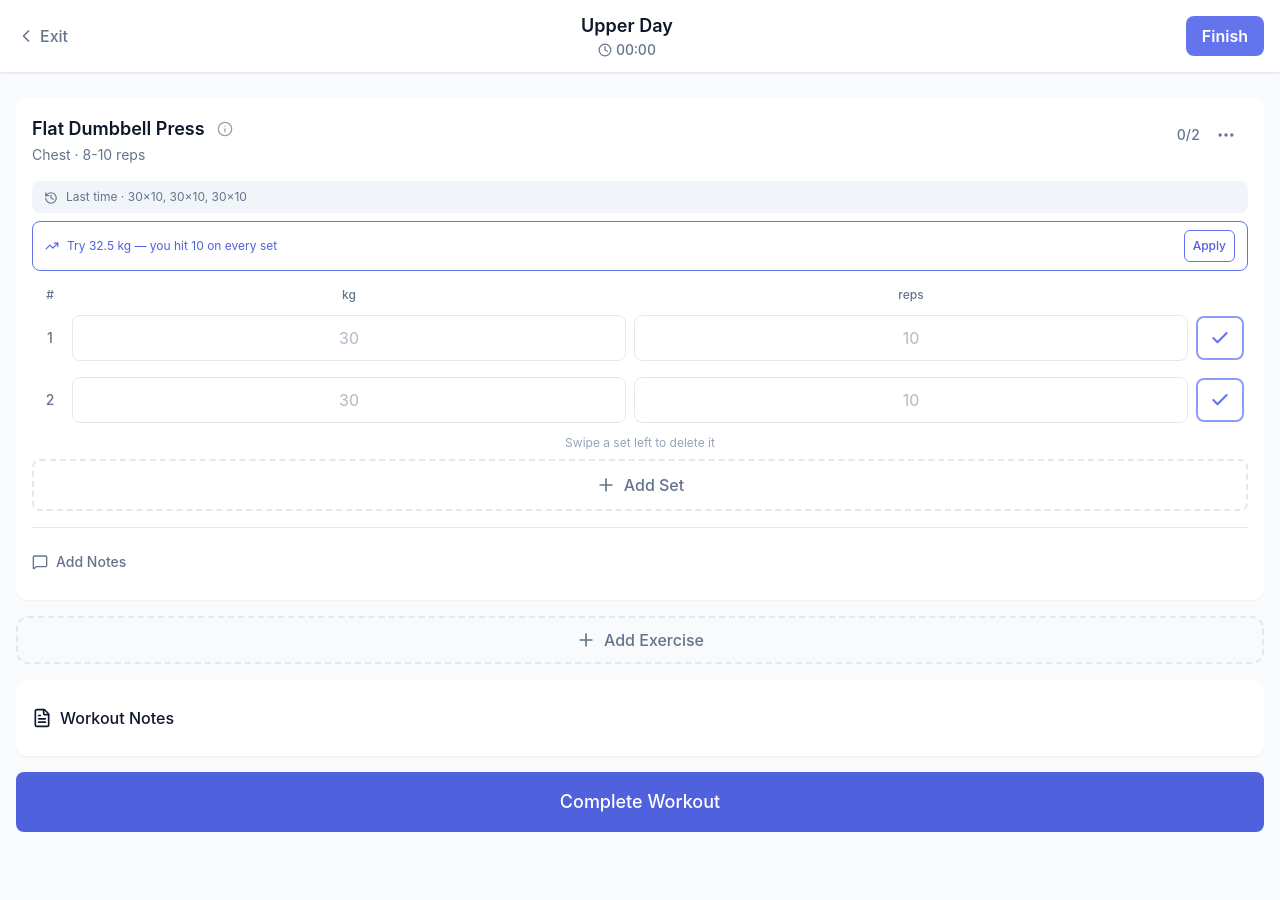
ActiveWorkoutPage suggestions › shows a done counter and one menu for exercise actions
Check: the text "Last time · 30×10, 30×10, 30×10" is shown, box [66,189,247,205]
Check: the text "0/2" is shown, box [1177,125,1200,145]
Click the button named "Mark set 1 done" at (1220, 338), box [1196,316,1244,360]
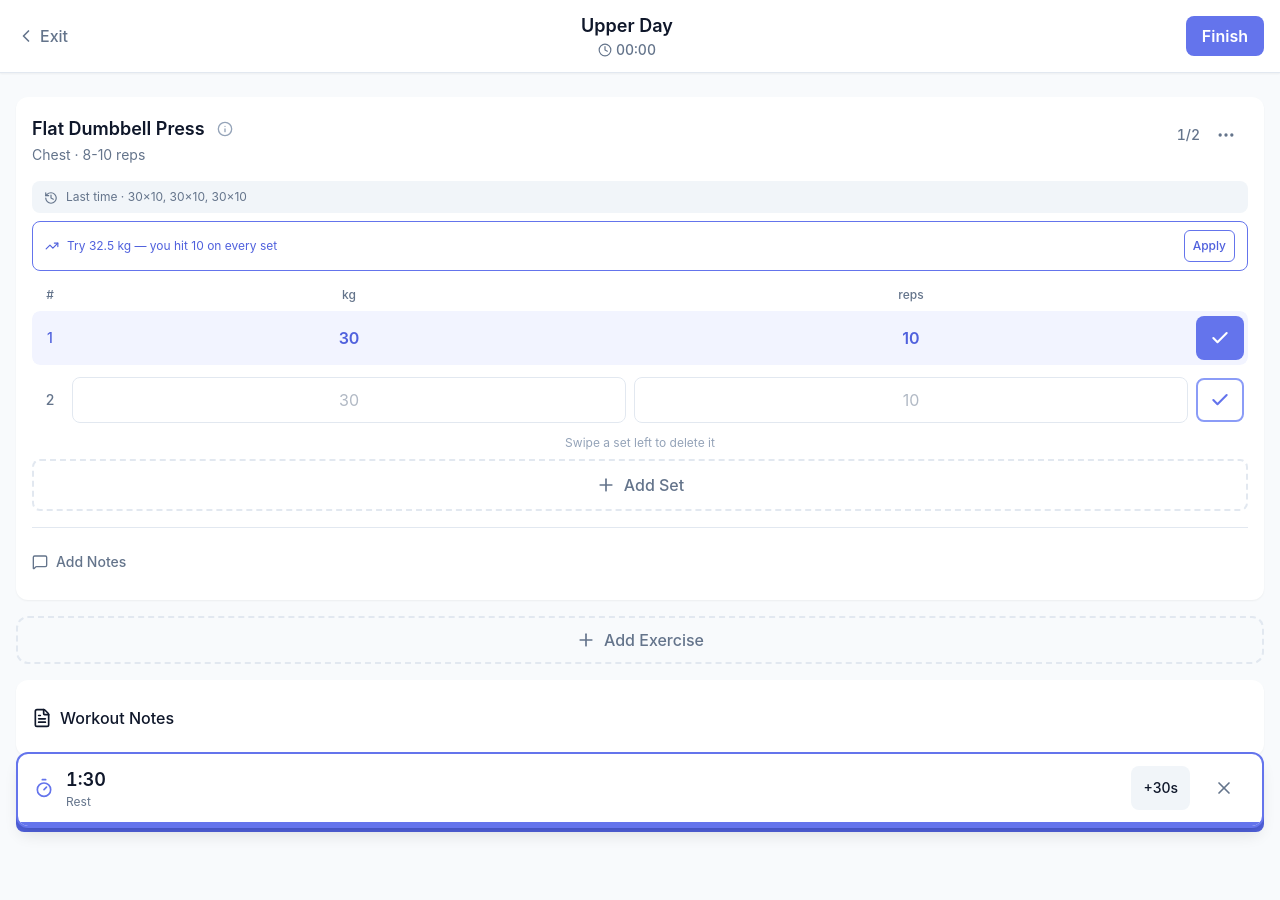
Check: the text "1/2" is shown, box [1177,125,1200,145]
Click the button named "Exercise options" at (1226, 135), box [1204,113,1248,157]
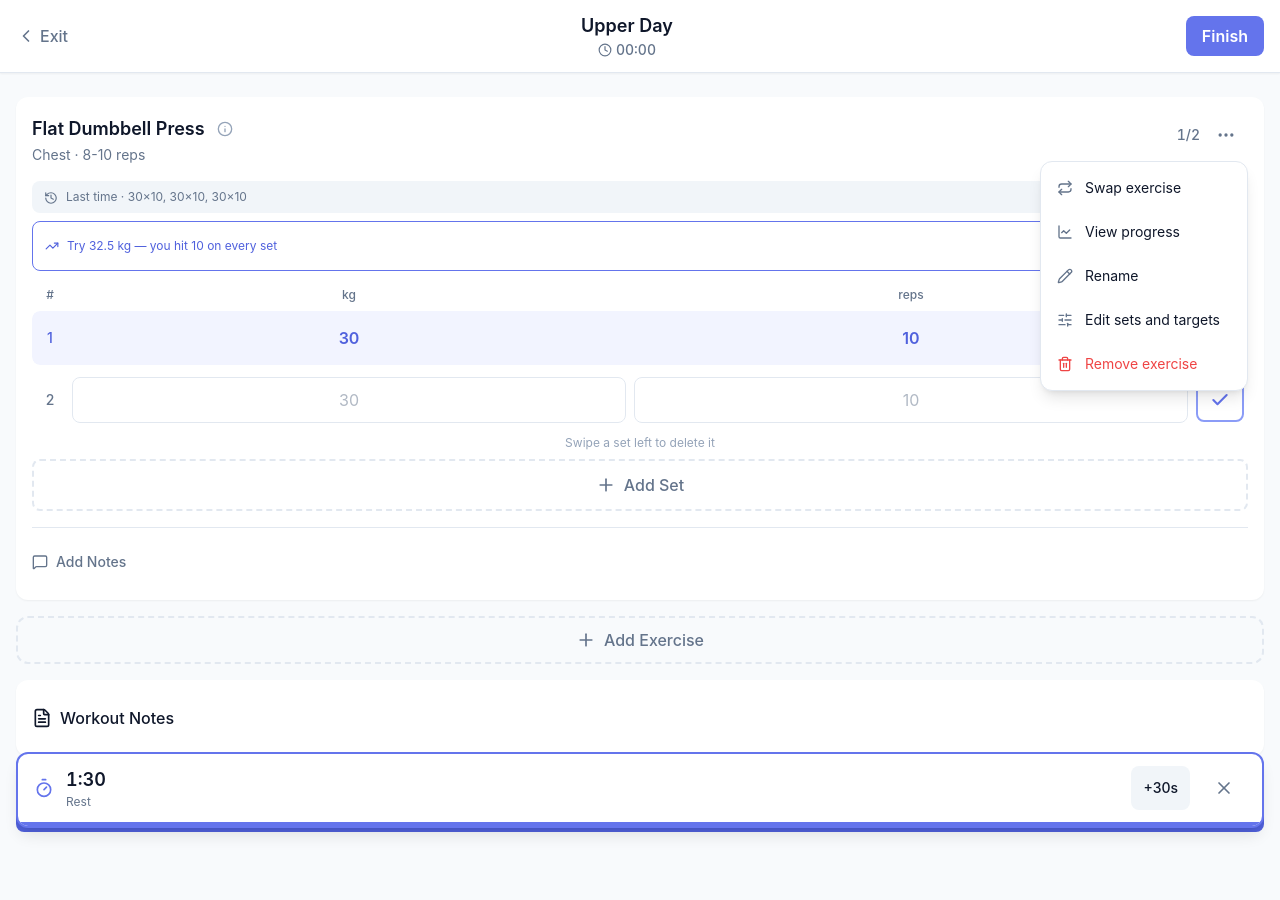
Check: the menu item "Edit sets and targets" is shown, box [1041,298,1247,342]
Click the menu item "Rename" at (1144, 276), box [1041,254,1247,298]
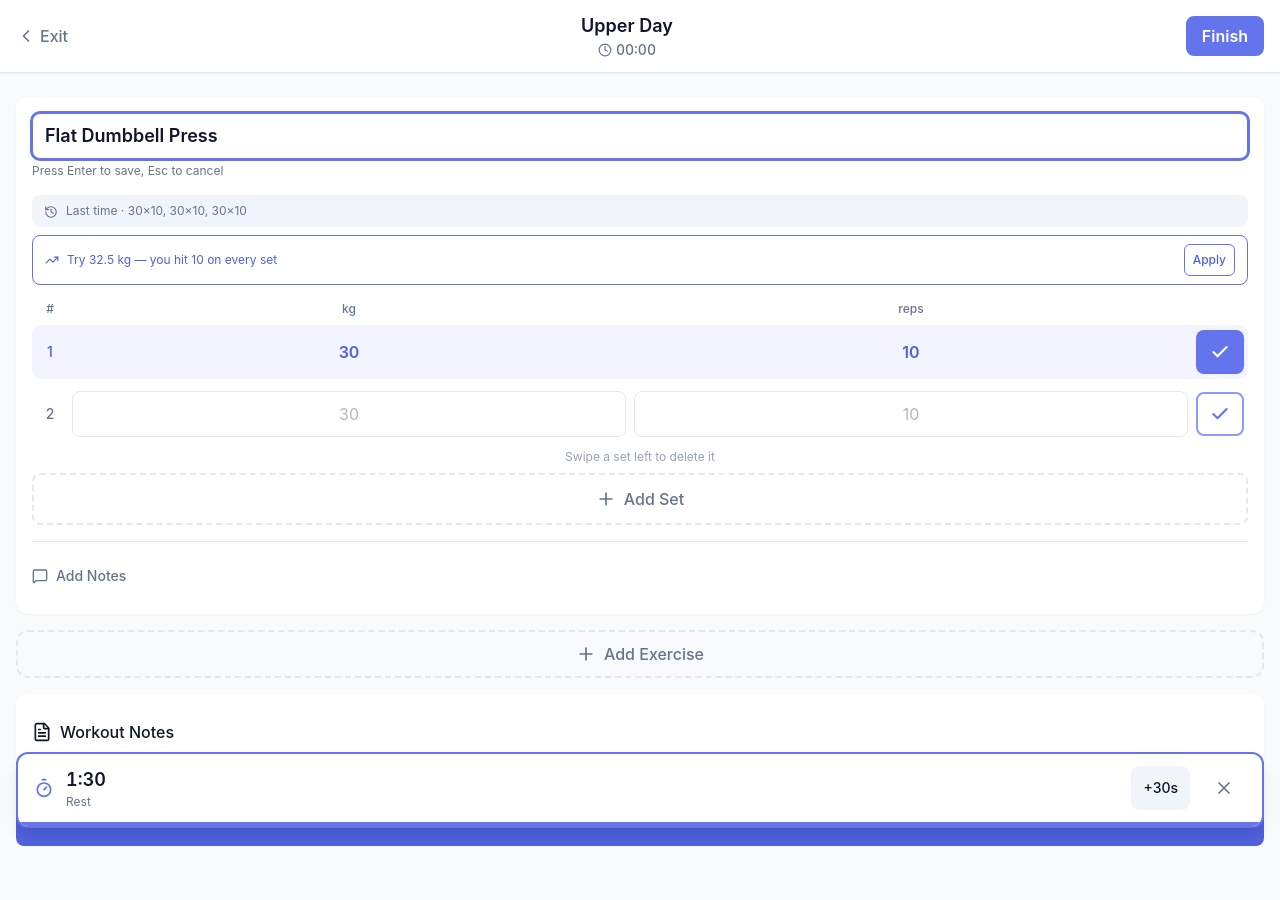
Check: the field with placeholder "Exercise name" holds "Flat Dumbbell Press", box [32,113,1248,159]
Check: the menu is gone
